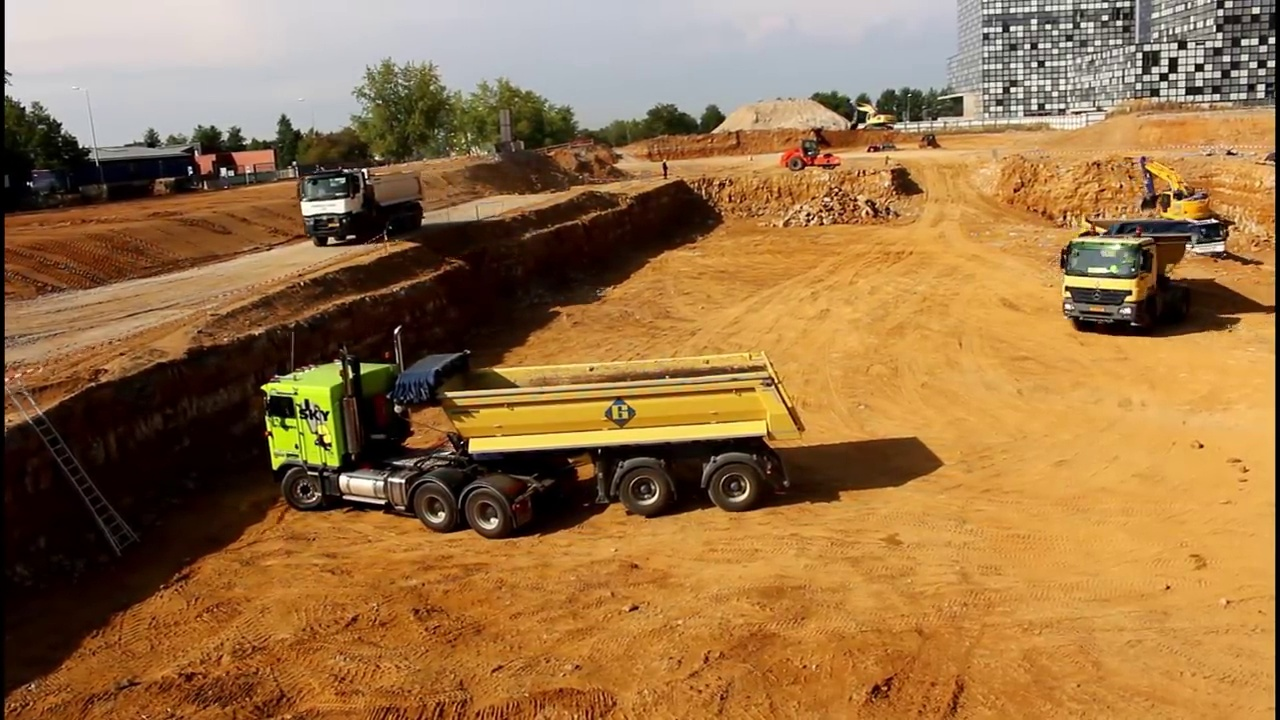compactor: (779, 137, 844, 175)
excavator: (1126, 151, 1230, 245), (847, 102, 896, 131)
truck: (260, 320, 809, 543), (1058, 209, 1195, 334), (296, 162, 427, 248), (1127, 209, 1229, 269)
worker: (657, 155, 674, 185)
